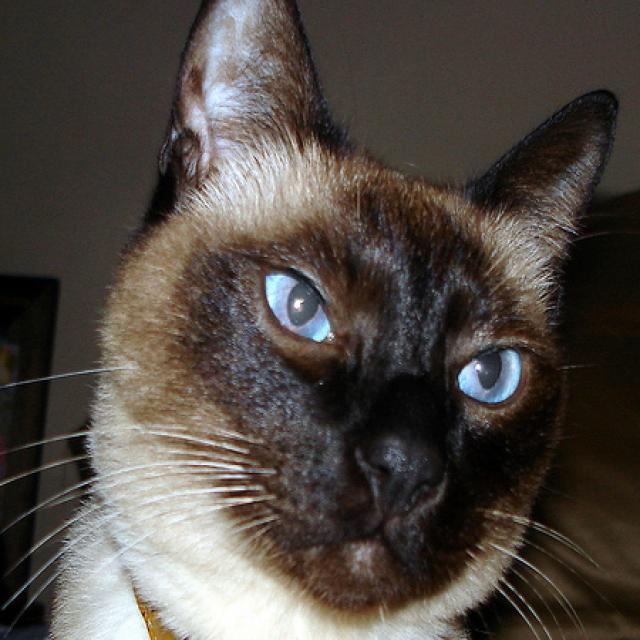Siamese: (41, 0, 624, 640)
